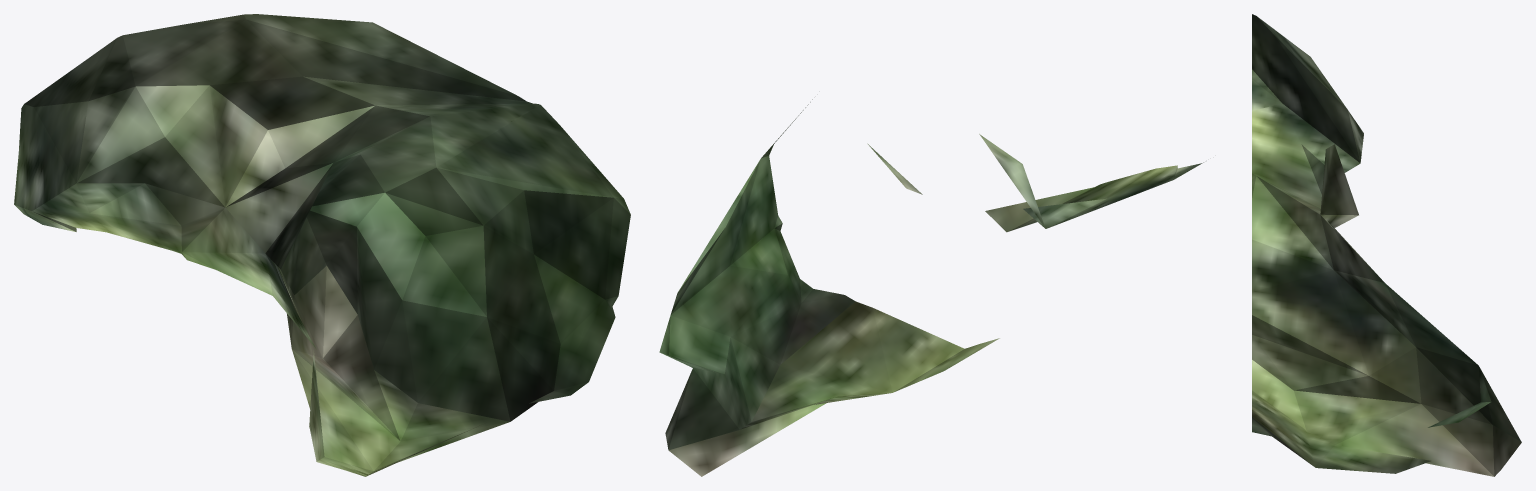
3 renders of one model, left to right at view 1: azimuth 30°, elevation 25°; view 2: azimuth 150°, elevation 25°; view 3: azimuth 270°, elevation 25°, orthographic. The views are drawn at different scales.
Bounding box in the file's own units: 14.68 × 11.8 × 9.17.
Materials: 1 (1 with a texture image).
